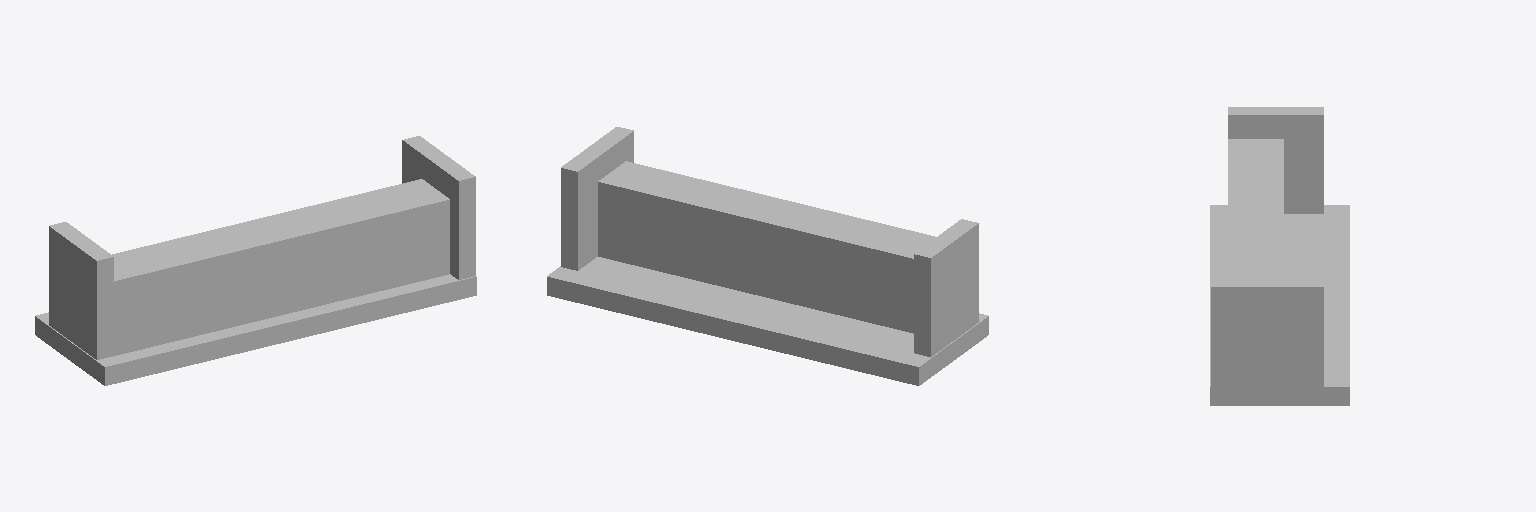
Rendered from frontSeatLP.obj.
3 renders of one model, left to right at view 1: azimuth 30°, elevation 25°; view 2: azimuth 150°, elevation 25°; view 3: azimuth 270°, elevation 25°, orthographic.
Parts seen in each view (by area): view 1: pCube42 driverSeat, pasted__pCube6, driverSeat pCube40, driverSeat pCube41; view 2: pCube42 driverSeat, pasted__pCube6, driverSeat pCube40, driverSeat pCube41; view 3: driverSeat pCube41, pasted__pCube6, pCube42 driverSeat, driverSeat pCube40.
Boxes of the visible parts, box(x1,y1,x2,y2) form: pCube42 driverSeat: box(111, 179, 449, 356); pasted__pCube6: box(35, 274, 476, 385); driverSeat pCube40: box(49, 222, 113, 359); driverSeat pCube41: box(402, 136, 475, 279); pCube42 driverSeat: box(598, 161, 935, 333); pasted__pCube6: box(547, 257, 988, 385); driverSeat pCube40: box(914, 219, 978, 356); driverSeat pCube41: box(561, 127, 633, 270); driverSeat pCube41: box(1211, 279, 1323, 386); pasted__pCube6: box(1210, 205, 1349, 405); pCube42 driverSeat: box(1228, 139, 1283, 278); driverSeat pCube40: box(1228, 107, 1323, 213).
Size of the model in its own units: 7.63 by 2.31 by 2.5.